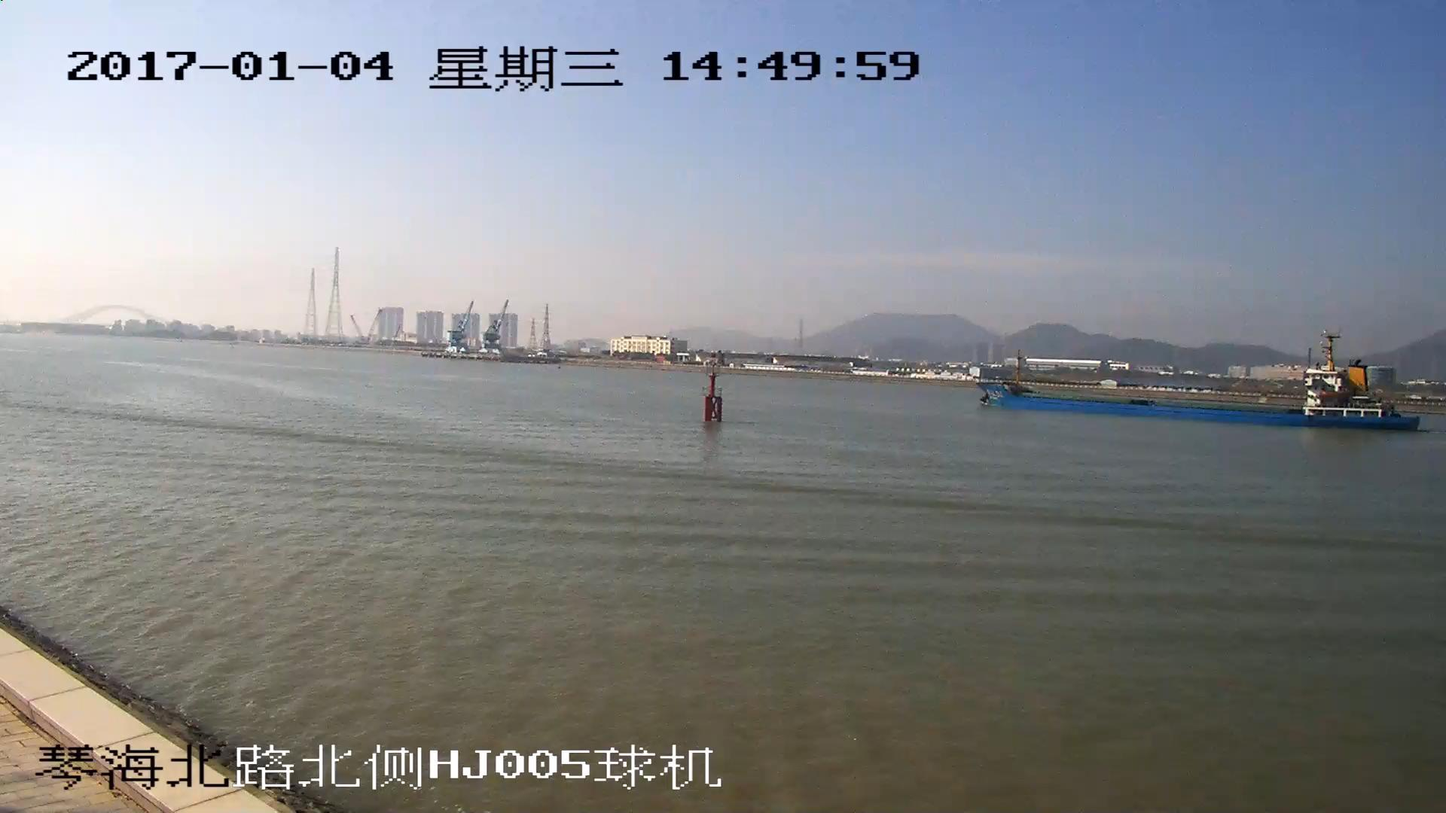general cargo ship: (974, 330, 1419, 433)
